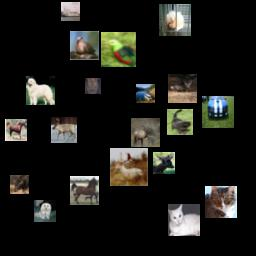automobile: (202, 96, 234, 128)
bird: (101, 32, 136, 67), (70, 31, 99, 60)
cat: (205, 186, 237, 218), (168, 204, 200, 236), (167, 109, 193, 135), (85, 78, 101, 94)
deer: (110, 148, 148, 186), (168, 74, 197, 103), (131, 118, 160, 147), (51, 117, 77, 143), (153, 152, 175, 174), (10, 175, 29, 194)
dog: (159, 4, 191, 36), (26, 76, 55, 105), (34, 200, 56, 222)
ship: (136, 84, 155, 103), (61, 2, 80, 21)
